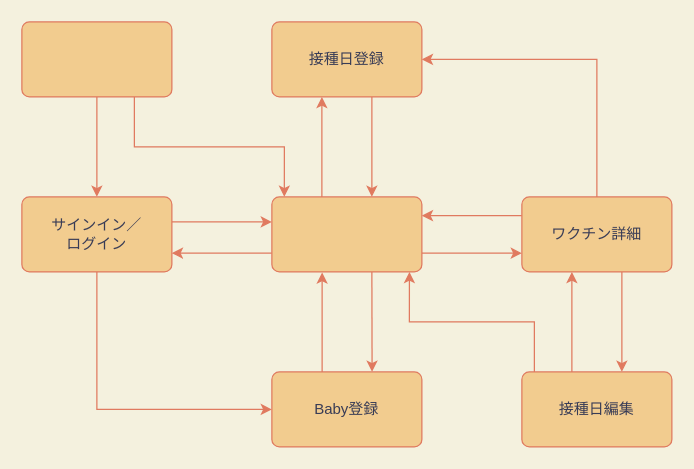
The diagram is 694 pixels wide and 469 high, and some of its shapes have lost their labels. Here are the shapes that lost their labels. From the top down, the centre of each, then its label:
At (96,59): "ロゴ".
At (346,234): "トップページ".
